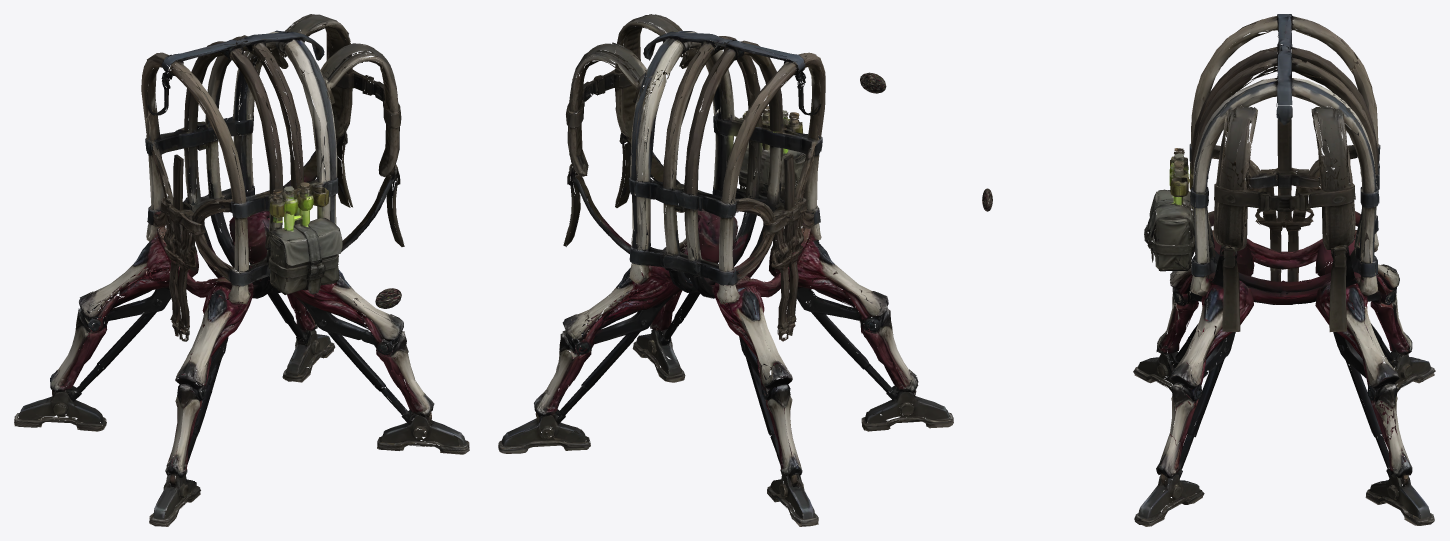
The model's file is tallow_recruited_mobile_clinic_harness.glb.
The picture shows the model from 3 angles, left to right: view 1: azimuth 30°, elevation 25°; view 2: azimuth 150°, elevation 25°; view 3: azimuth 270°, elevation 25°; orthographic projection.
Parts seen in each view (by area): view 1: node_0; view 2: node_0; view 3: node_0.
Boxes of the visible parts, bbox=[...] form: node_0: bbox=[14, 14, 469, 526]; node_0: bbox=[498, 14, 953, 526]; node_0: bbox=[1133, 14, 1435, 526].
Size of the model in its own units: 0.6994 by 0.8302 by 0.8508.
1 material, 1 textured.
